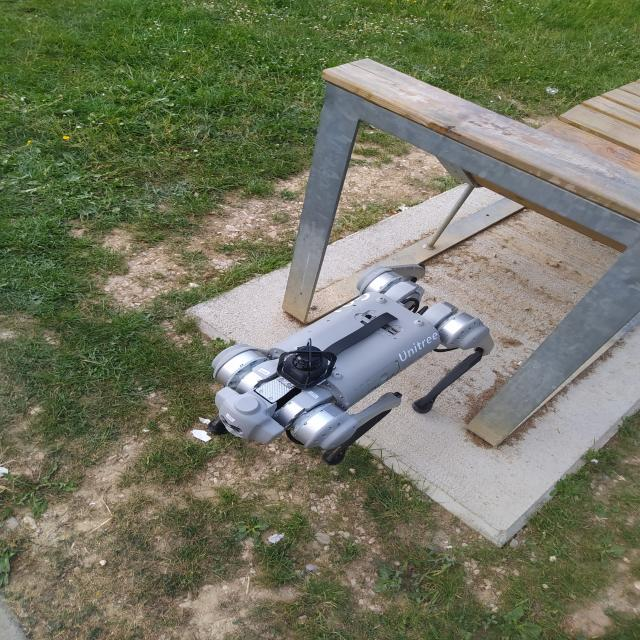unitree-go1-robot: (186, 266, 499, 482)
